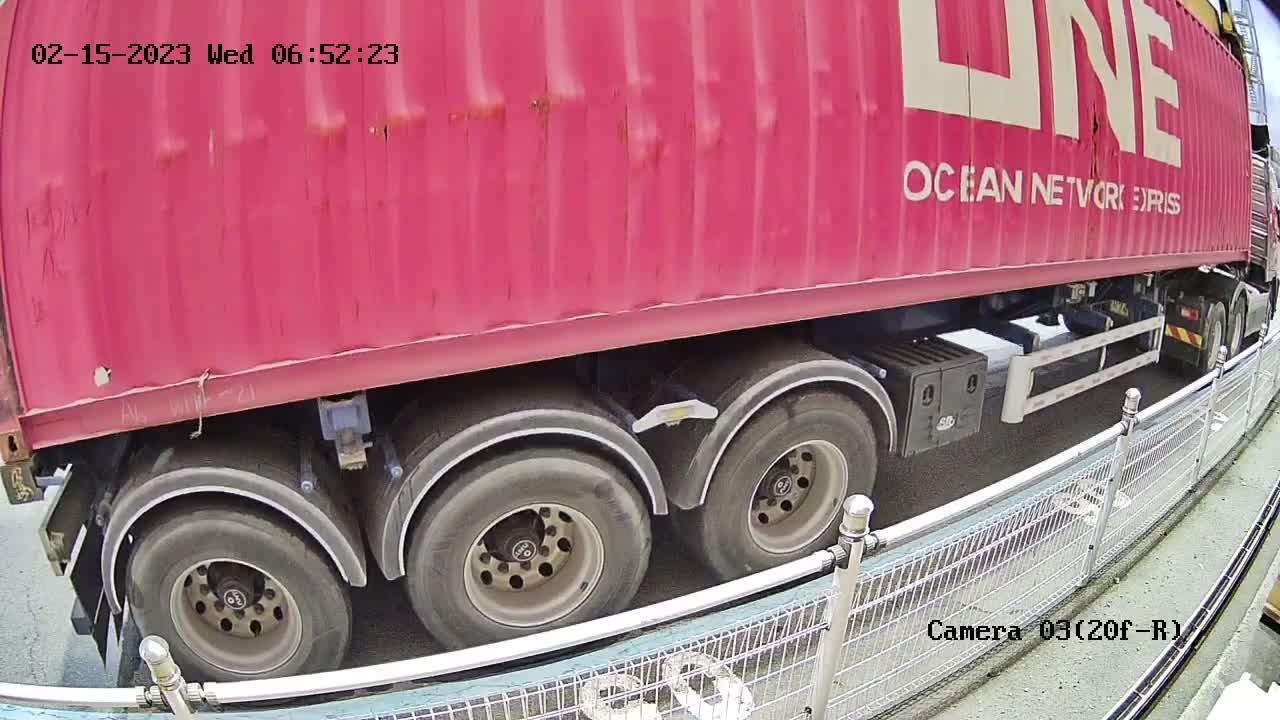Cone: (1, 462, 48, 509)
Hole_L: (0, 375, 83, 462)
Tire: (412, 451, 649, 647), (127, 514, 351, 676), (701, 391, 885, 574)
